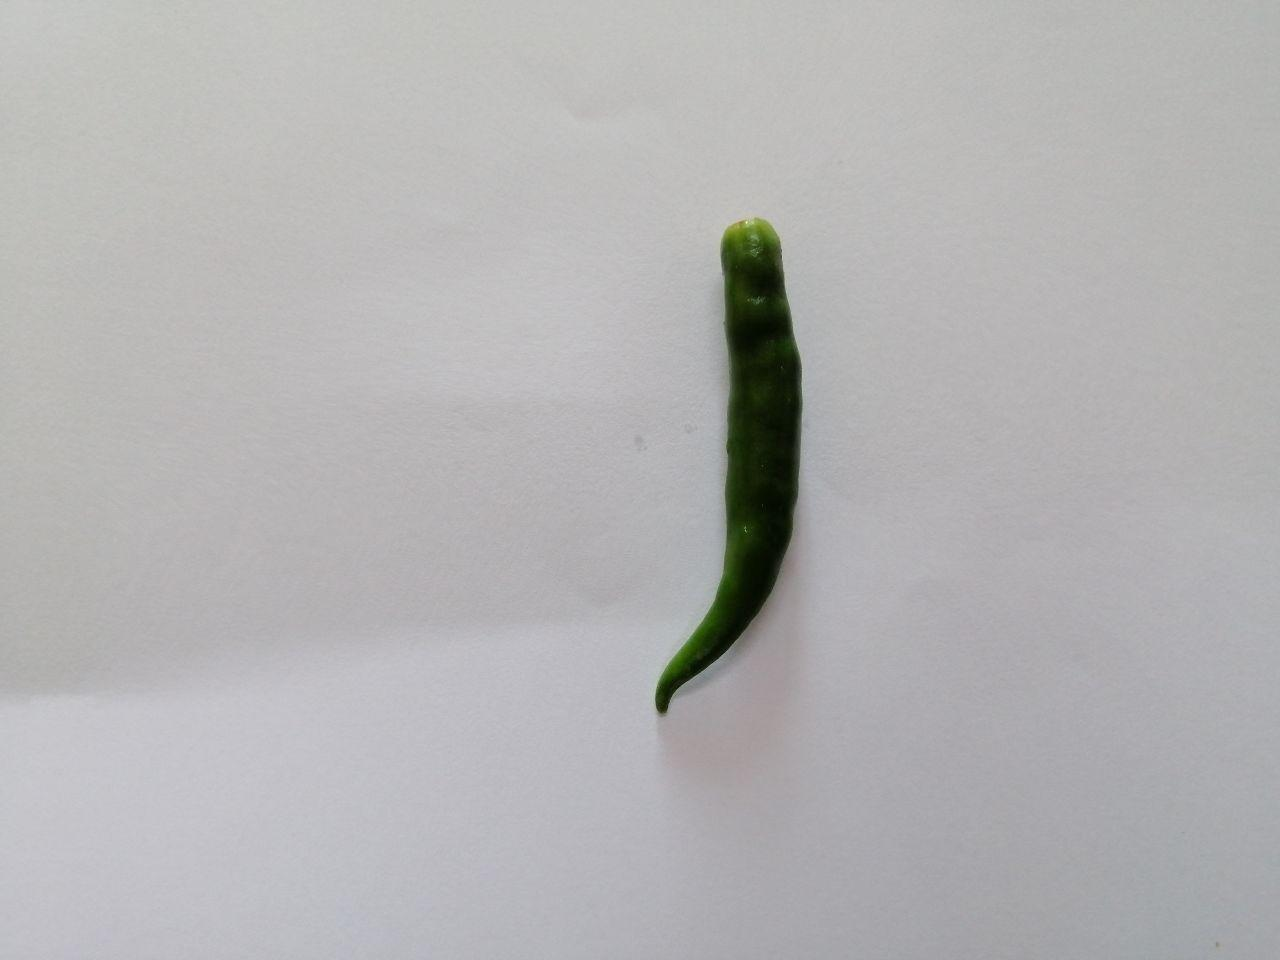lada hijau: (638, 197, 856, 749)
